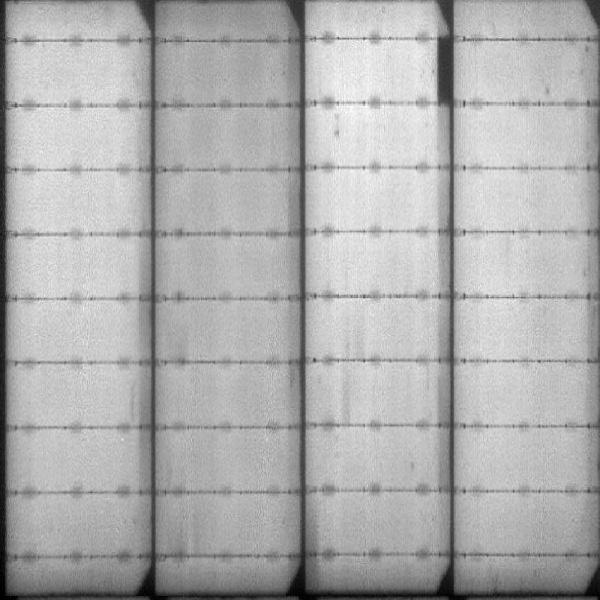black_border: (433, 36, 456, 110)
